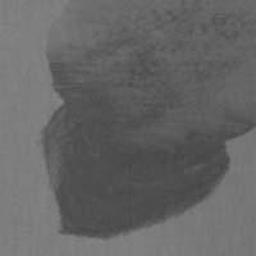Oil spot: (41, 0, 256, 242)
